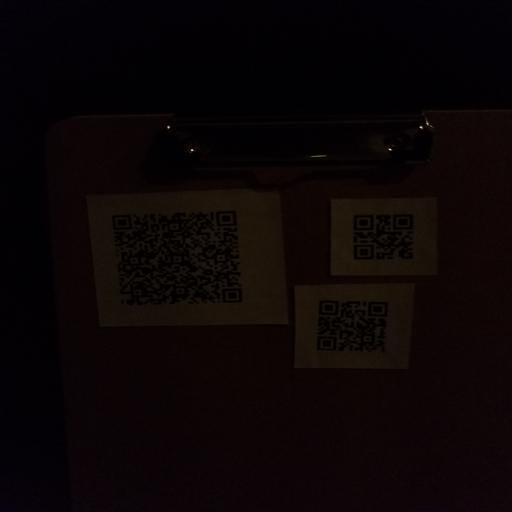qr_code: (111, 209, 243, 306), (317, 299, 389, 353), (353, 213, 414, 261)
